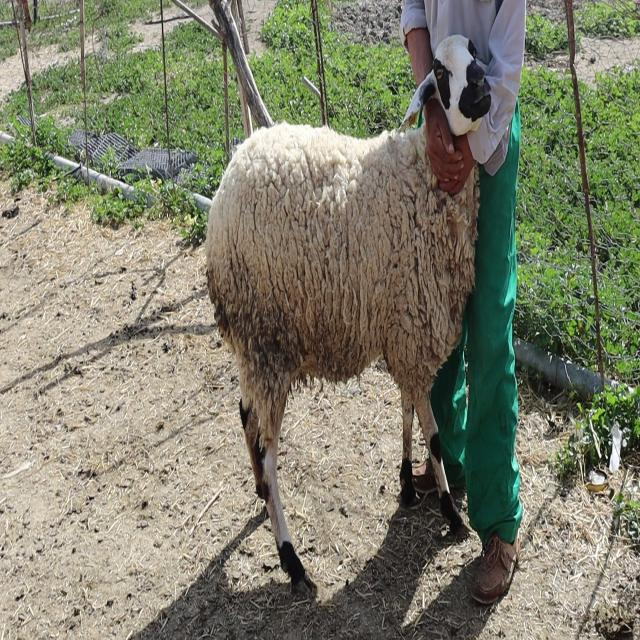Score_5: (206, 123, 479, 587)
